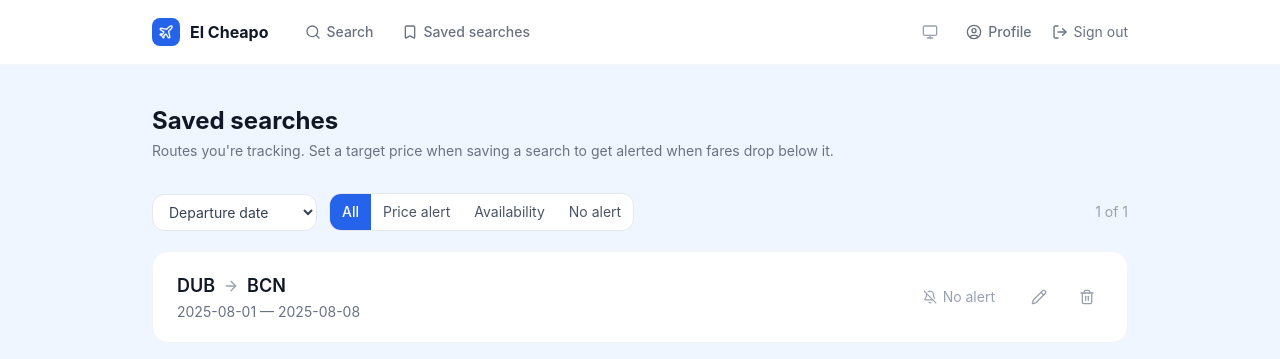
Test case: SavedSearches — delete › removes route from the list after delete
Expected: the text "DUB" is shown, [177, 272, 215, 300]
Click the button named "delete": (1087, 297) [1071, 281, 1103, 313]
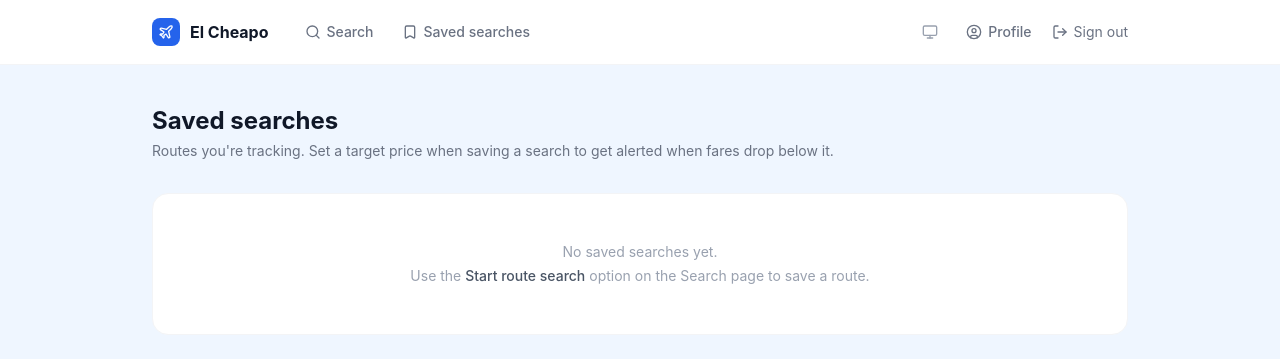
Now the button "DUB" is gone
